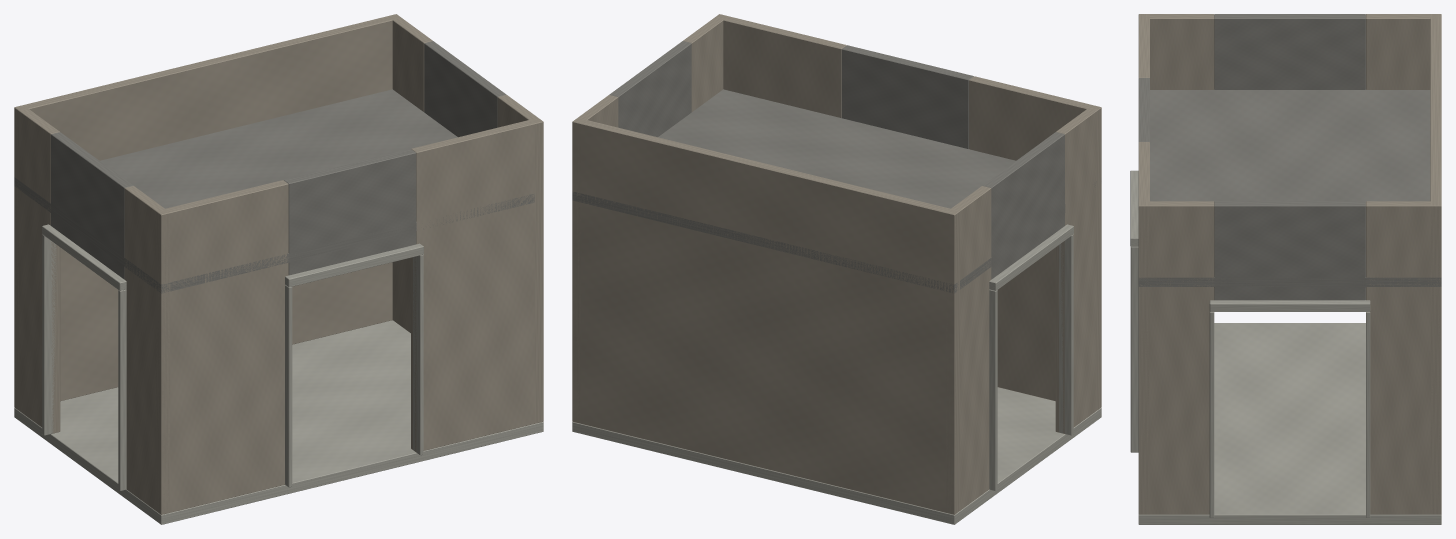
File: I04_TJunction_visual.glb
The picture shows the model from 3 angles, left to right: view 1: azimuth 30°, elevation 25°; view 2: azimuth 150°, elevation 25°; view 3: azimuth 270°, elevation 25°; orthographic projection. The views are drawn at different scales.
Visible parts, largest first — view 1: I04_TJunction__VIS_shell, I04_TJunction__VIS_roof; view 2: I04_TJunction__VIS_shell, I04_TJunction__VIS_roof; view 3: I04_TJunction__VIS_shell, I04_TJunction__VIS_roof.
Boxes of the visible parts, x1,y1,x2,y2 form: I04_TJunction__VIS_shell: (14,14,543,524); I04_TJunction__VIS_roof: (14,89,534,293); I04_TJunction__VIS_shell: (572,14,1101,524); I04_TJunction__VIS_roof: (572,89,1101,293); I04_TJunction__VIS_shell: (1130,14,1441,524); I04_TJunction__VIS_roof: (1138,89,1441,286).
Size of the model in its own units: 24.86 by 18.6 by 16.43.
1 material, 1 textured.
